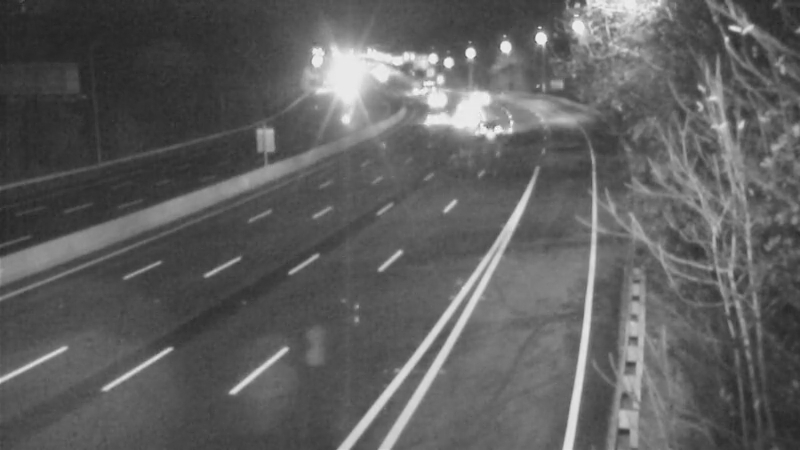vehicle: (410, 75, 460, 125), (453, 70, 503, 120), (443, 84, 493, 134), (411, 93, 461, 143), (440, 99, 490, 149), (465, 111, 515, 161)
